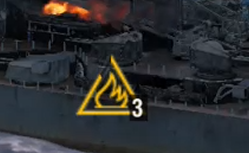3fire: (73, 82, 146, 121)
